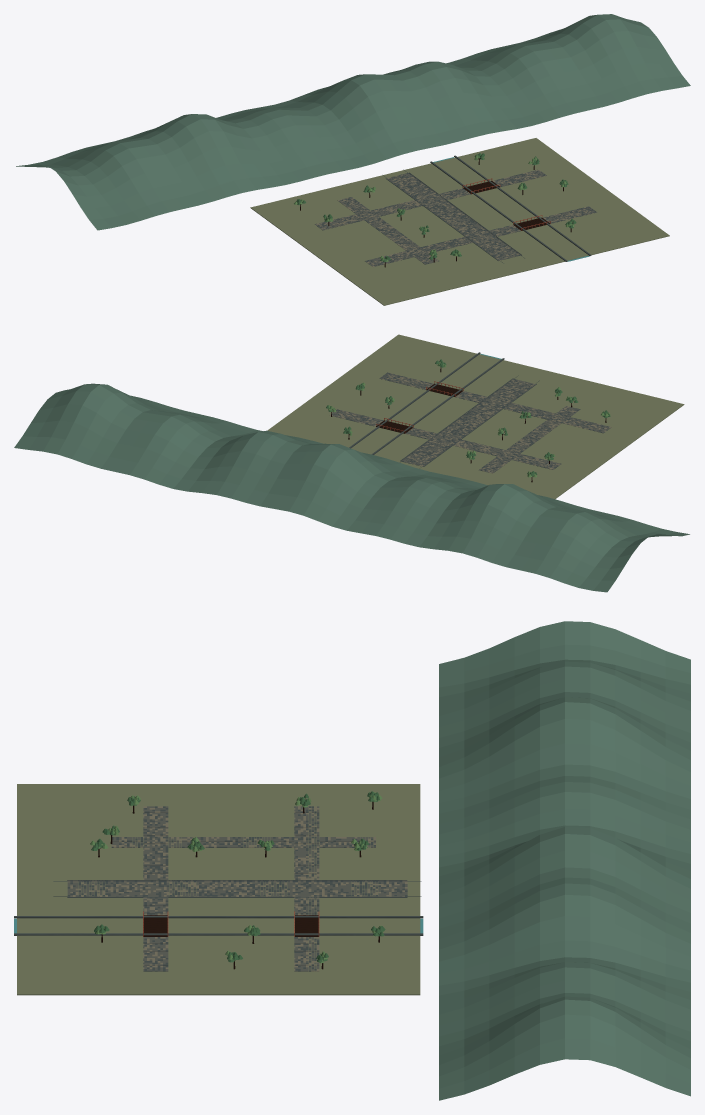
File: koharu-environment.glb
The picture shows the model from 3 angles, top to bottom: view 1: azimuth 30°, elevation 25°; view 2: azimuth 150°, elevation 25°; view 3: azimuth 270°, elevation 25°; orthographic projection. The views are drawn at different scales.
Visible parts, largest first — view 1: Forest_ridge, Town_terrain, Stone_paving, Garden_trees; view 2: Forest_ridge, Town_terrain, Stone_paving, Garden_trees; view 3: Forest_ridge, Town_terrain, Stone_paving, Garden_trees.
Part boxes in pixels (x1,y1,x2,y2): Forest_ridge: (16, 14, 690, 230); Town_terrain: (250, 138, 669, 305); Stone_paving: (315, 169, 596, 266); Garden_trees: (294, 153, 576, 267); Forest_ridge: (14, 383, 689, 592); Town_terrain: (267, 334, 684, 498); Stone_paving: (329, 372, 611, 473); Garden_trees: (326, 359, 610, 482); Forest_ridge: (439, 621, 690, 1100); Town_terrain: (14, 784, 423, 995); Stone_paving: (67, 806, 407, 971); Garden_trees: (90, 791, 385, 969).
Bounding box in the file's own units: 328 × 28.76 × 215.
Materials: 12 (5 with a texture image).
